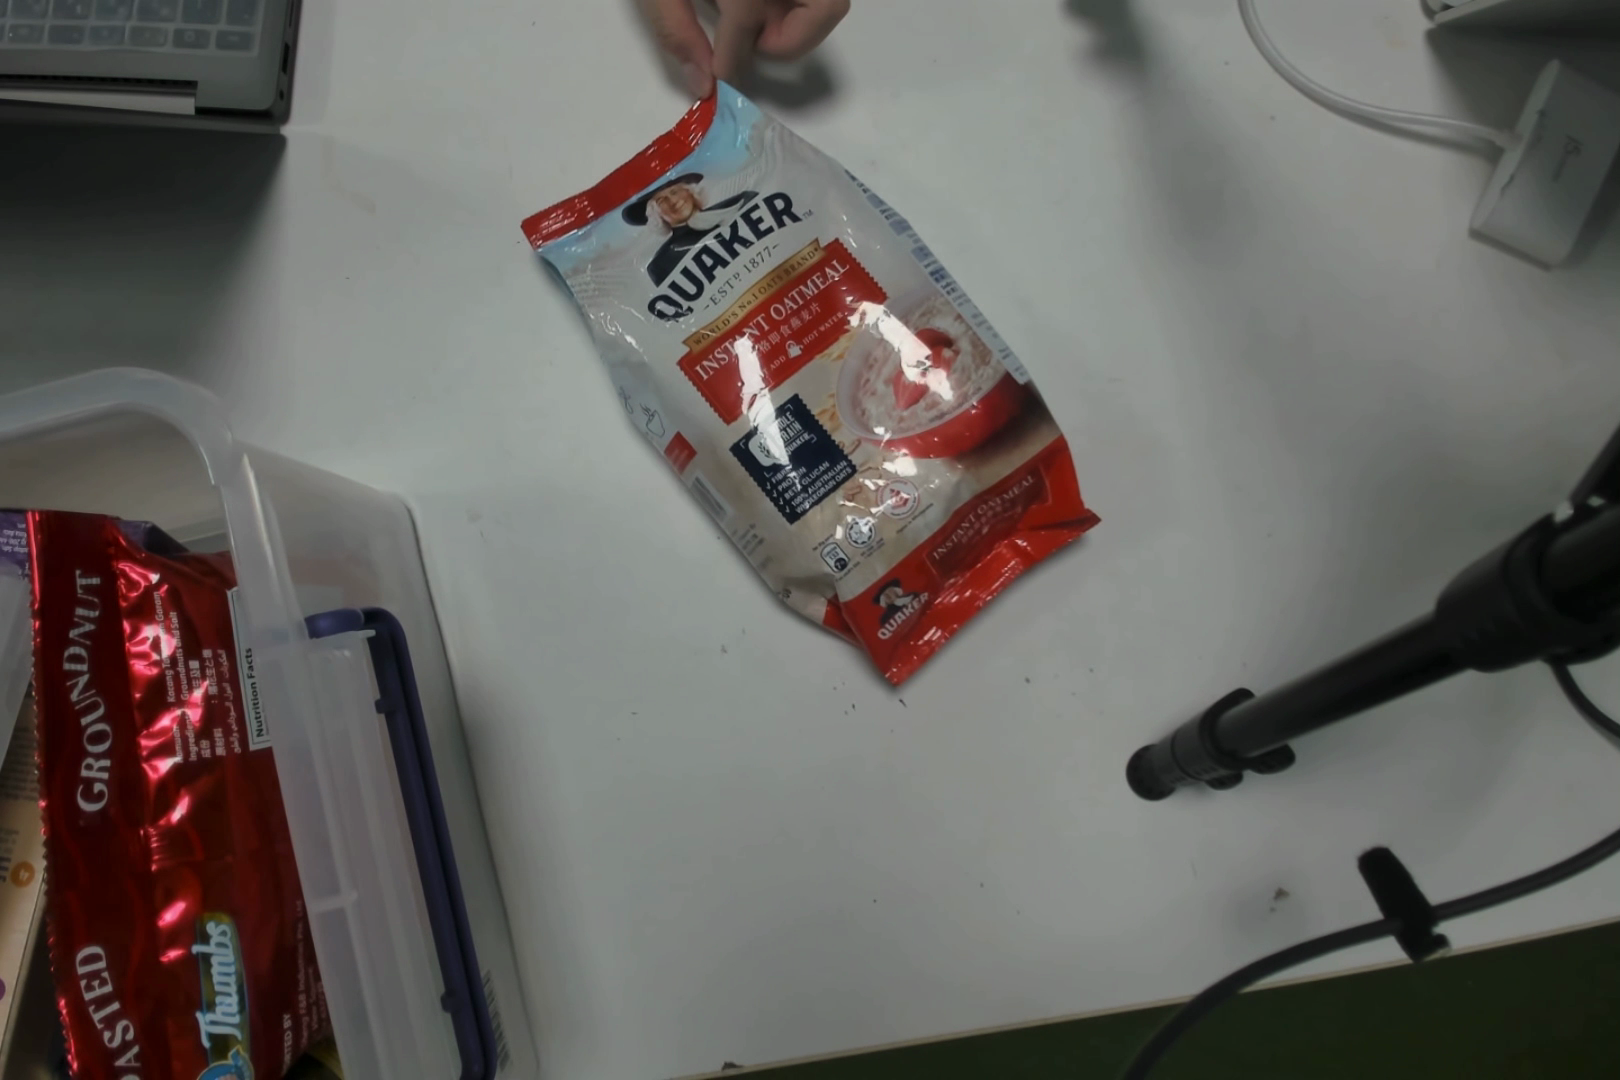RolledOatsInstantOatmeal_400-499g_Halal_Healthy: (626, 119, 1102, 663)
